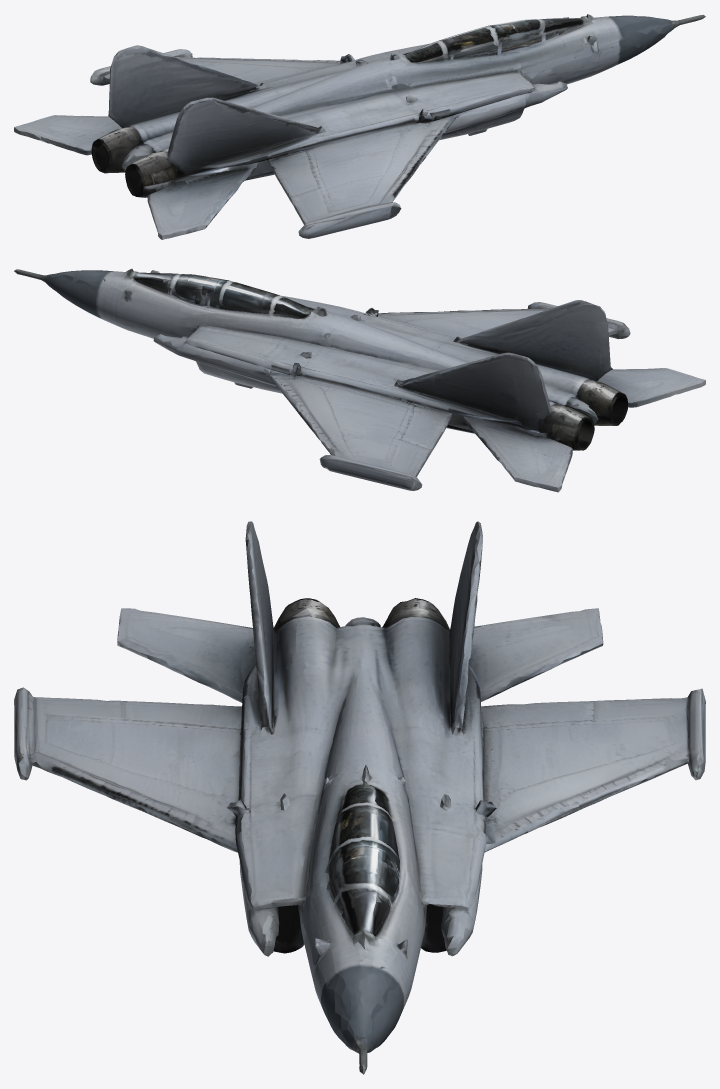
File: fh_plane_osa2_hunyuan.glb
3 views of the same model, one above another, from view 1: azimuth 30°, elevation 25°; view 2: azimuth 150°, elevation 25°; view 3: azimuth 270°, elevation 25° (orthographic). The views are drawn at different scales.
Parts seen in each view (by area): view 1: dec2; view 2: dec2; view 3: dec2.
Boxes of the visible parts, left/top/right/bottom form: dec2: left=14, top=14, right=705, bottom=239; dec2: left=14, top=268, right=705, bottom=492; dec2: left=14, top=521, right=705, bottom=1074.
Size of the model in its own units: 1 by 0.1754 by 0.6003.
1 material, 1 textured.
